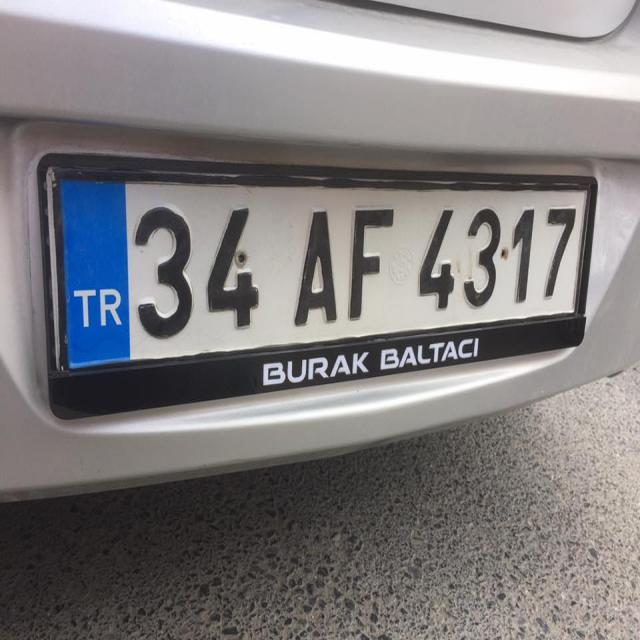plate: (37, 160, 601, 385)
